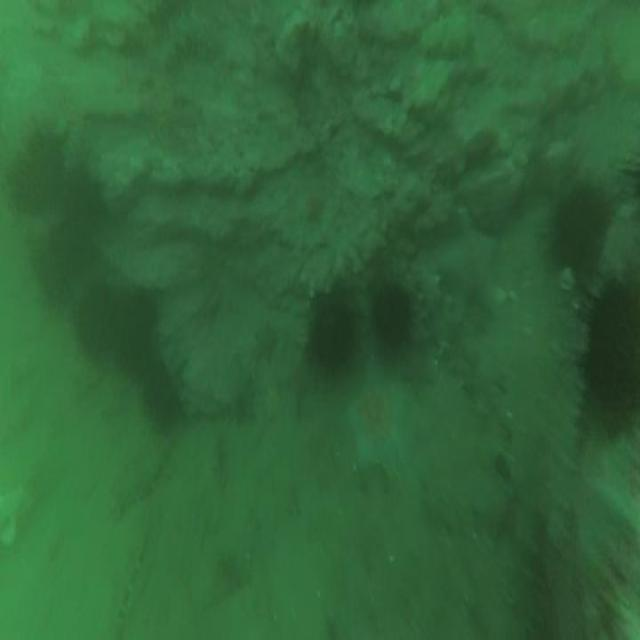echinus: (566, 255, 640, 455), (539, 176, 613, 290), (304, 278, 366, 392), (363, 262, 422, 376), (63, 267, 125, 365)
starfish: (341, 360, 415, 474)
